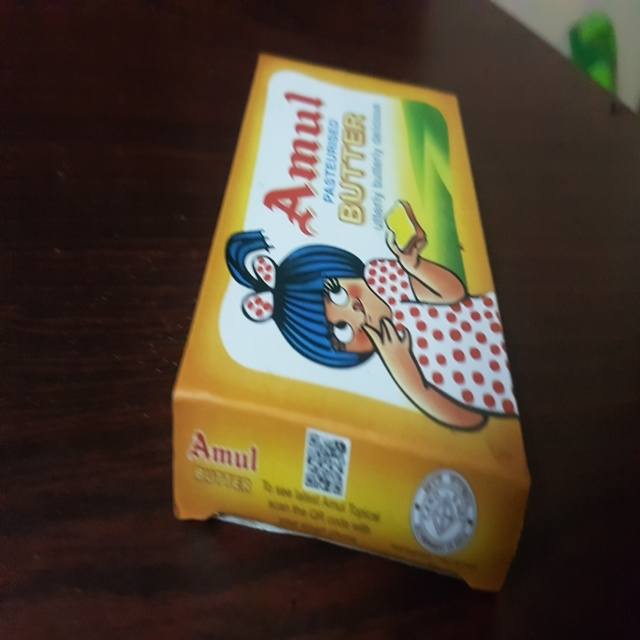butter: (171, 49, 530, 598)
